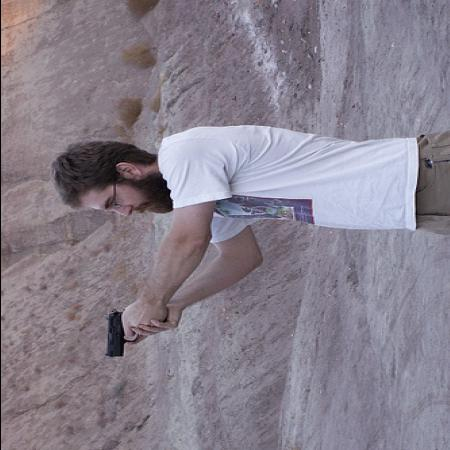Pistol: (103, 306, 138, 356)
